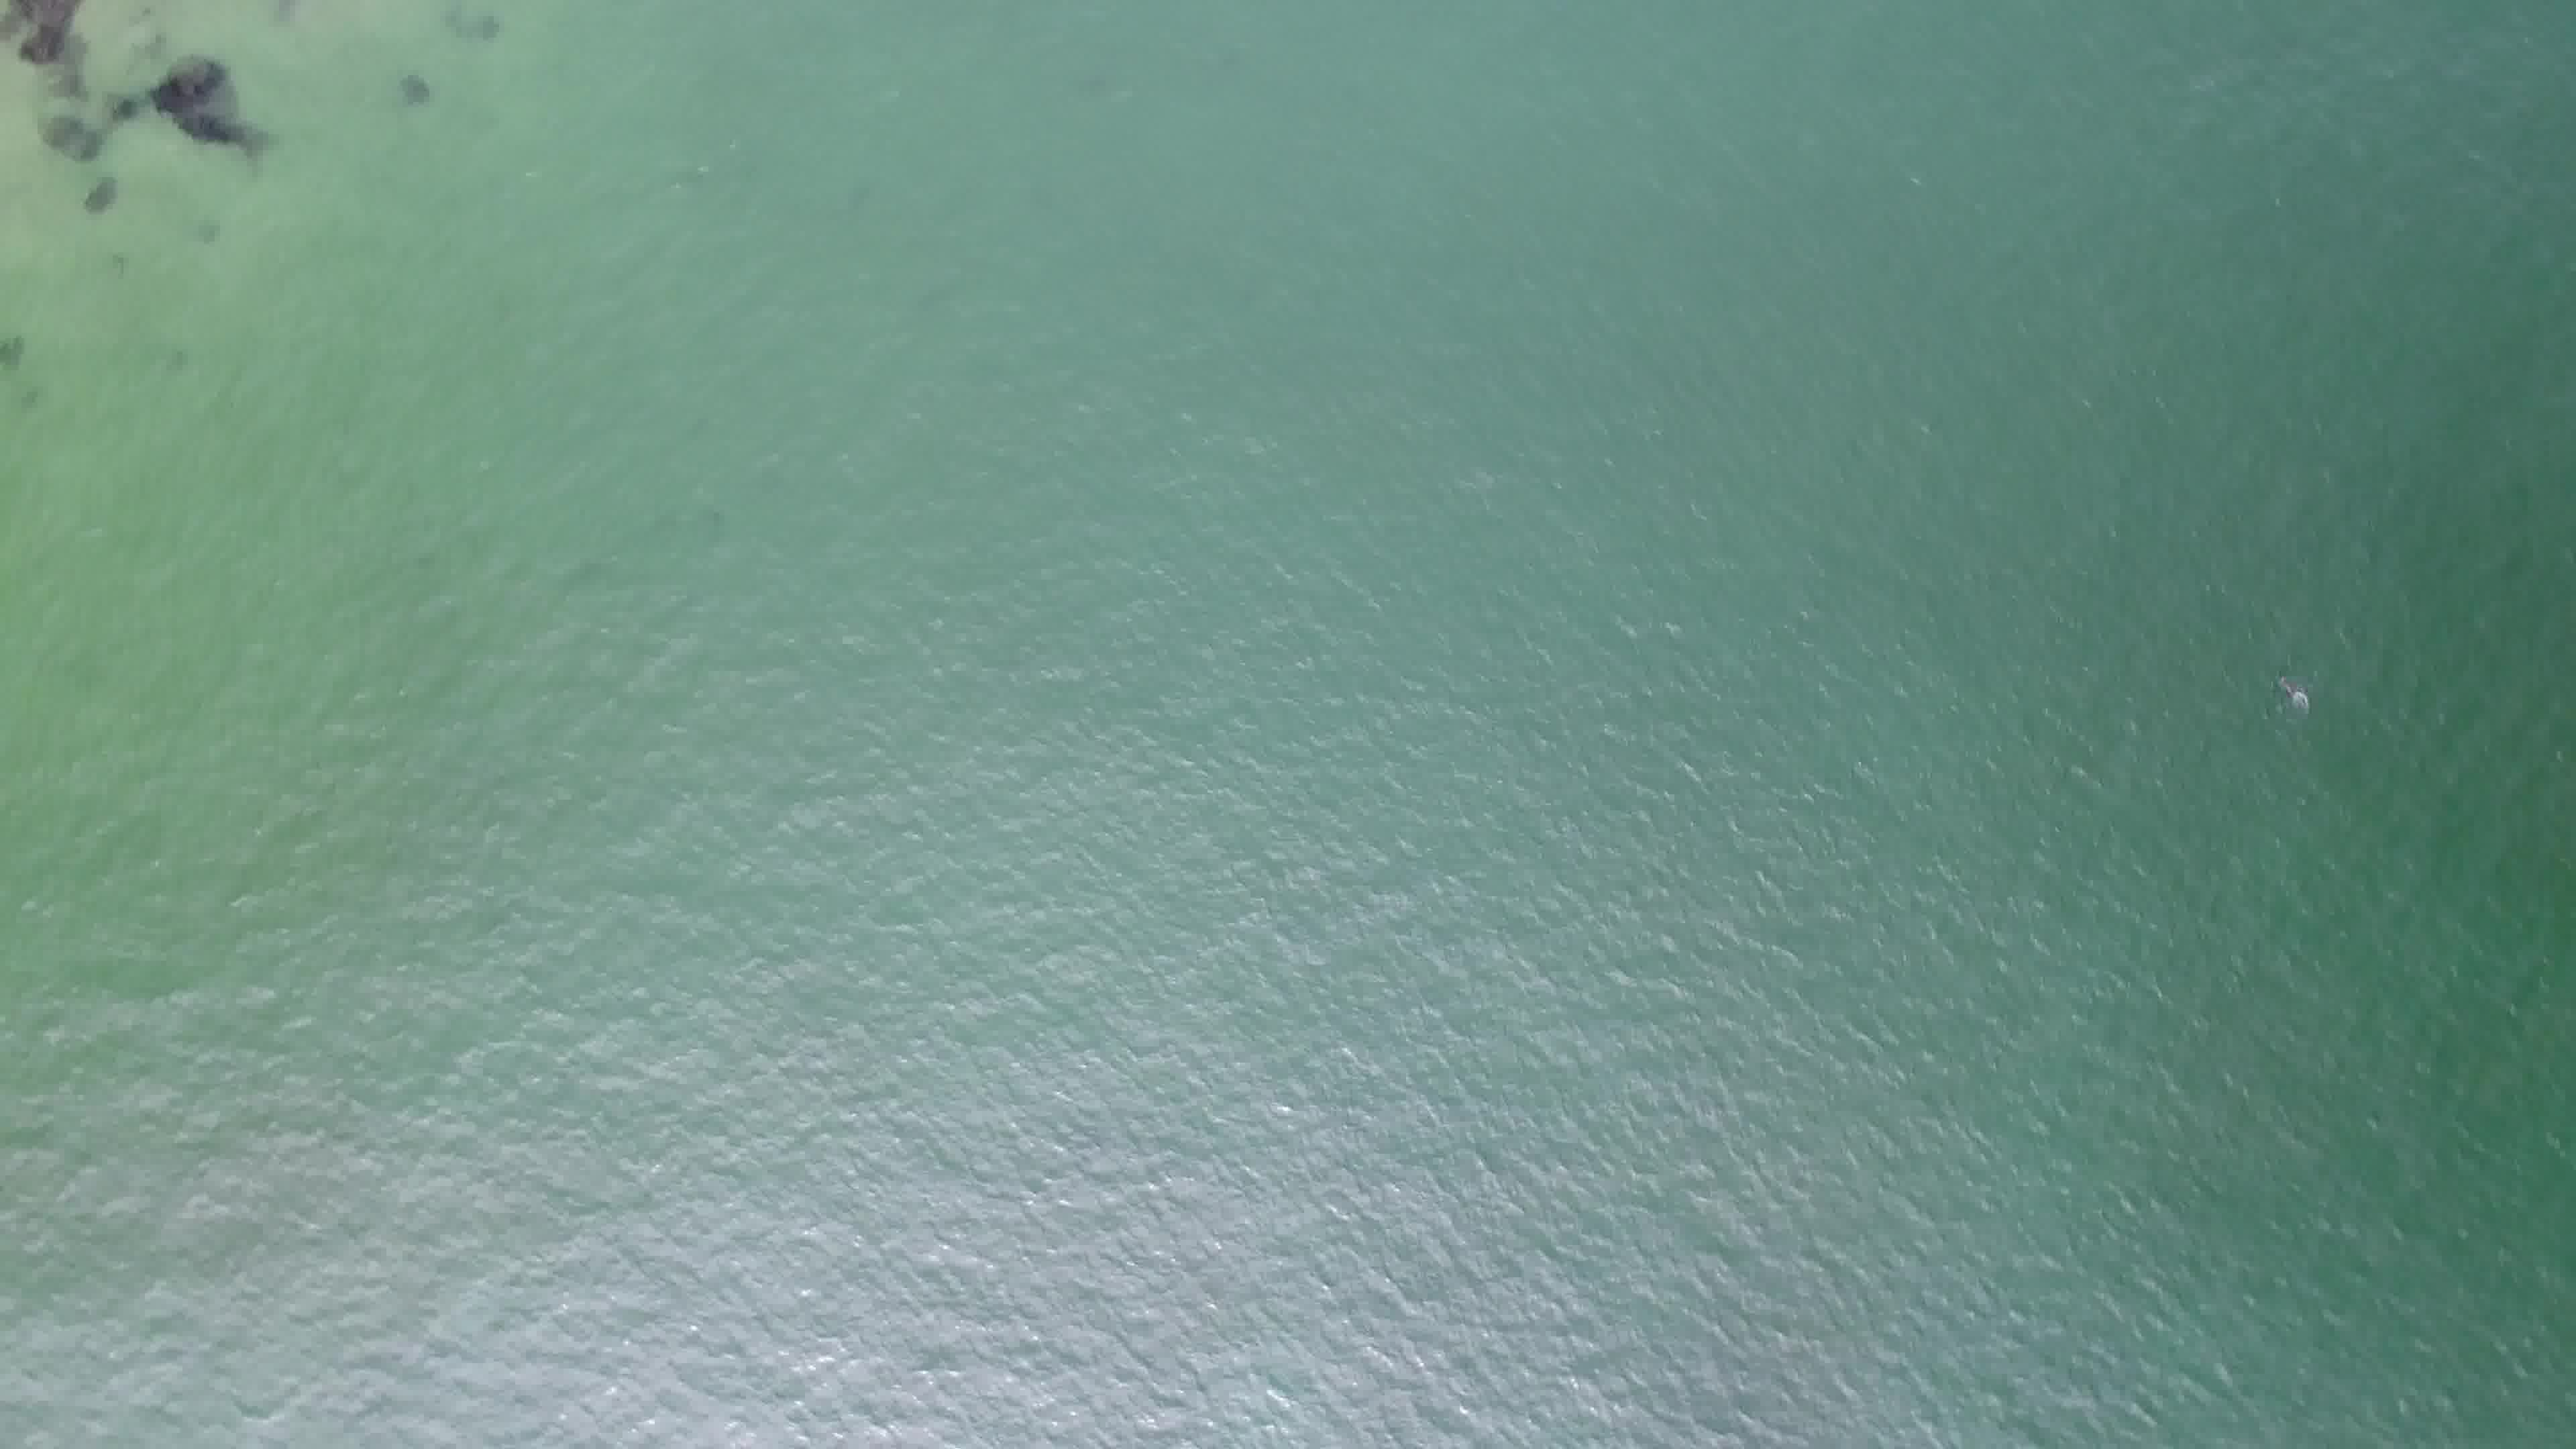dolphin: (2258, 658, 2325, 724)
